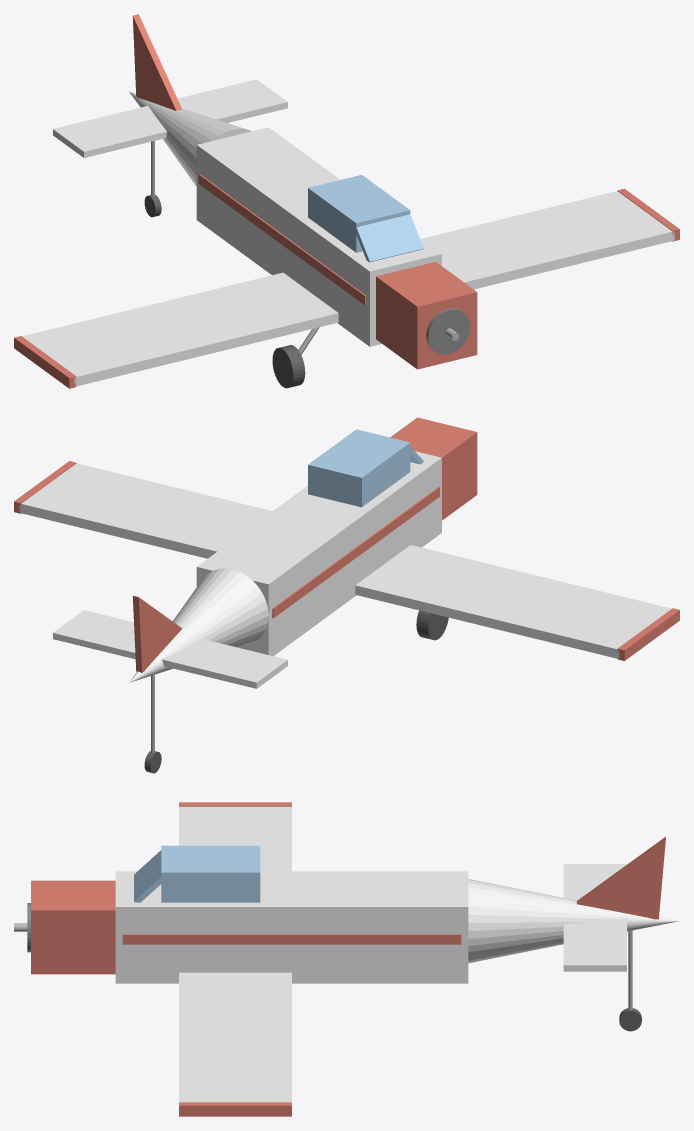
Rendered from plane-without-propeller.glb.
3 renders of one model, top to bottom at view 1: azimuth 30°, elevation 25°; view 2: azimuth 150°, elevation 25°; view 3: azimuth 270°, elevation 25°, orthographic.
Visible parts, largest first — view 1: wing, fuselage, nose_cowl, h_stab, canopy, tail_cone, v_fin, windshield, stripe_l, cowl_plate, wheel_l, wingtip_l; view 2: wing, fuselage, tail_cone, h_stab, canopy, nose_cowl, v_fin, stripe_l, wingtip_l, wheel_l, wingtip_r; view 3: fuselage, wing, nose_cowl, tail_cone, canopy, h_stab, stripe_r, v_fin, wingtip_r, windshield, wingtip_l.
Part boxes in pixels (x1,y1,x2,y2): wing: [22, 191, 674, 386]; fuselage: [196, 127, 441, 346]; nose_cowl: [376, 262, 477, 369]; h_stab: [53, 79, 287, 157]; canopy: [308, 175, 410, 252]; tail_cone: [129, 91, 251, 186]; v_fin: [132, 14, 182, 110]; windshield: [353, 214, 423, 262]; stripe_l: [198, 174, 366, 305]; cowl_plate: [426, 308, 469, 354]; wheel_l: [272, 345, 305, 388]; wingtip_l: [14, 336, 76, 388]; wing: [19, 463, 671, 658]; fuselage: [196, 451, 441, 656]; tail_cone: [129, 568, 268, 682]; h_stab: [53, 610, 287, 688]; canopy: [308, 429, 410, 507]; nose_cowl: [390, 417, 477, 520]; v_fin: [132, 596, 182, 672]; stripe_l: [272, 487, 439, 618]; wingtip_l: [617, 608, 679, 660]; wheel_l: [416, 610, 448, 640]; wingtip_r: [14, 461, 76, 513]; fuselage: [115, 871, 468, 983]; wing: [179, 806, 291, 1102]; nose_cowl: [31, 880, 115, 974]; tail_cone: [468, 879, 679, 963]; canopy: [161, 845, 260, 902]; h_stab: [563, 864, 626, 971]; stripe_r: [122, 934, 461, 944]; v_fin: [576, 836, 665, 919]; wingtip_r: [179, 1102, 291, 1116]; windshield: [134, 850, 165, 902]; wingtip_l: [179, 802, 291, 806].
Bounding box in the file's own units: 10.18 × 3 × 9.44.
